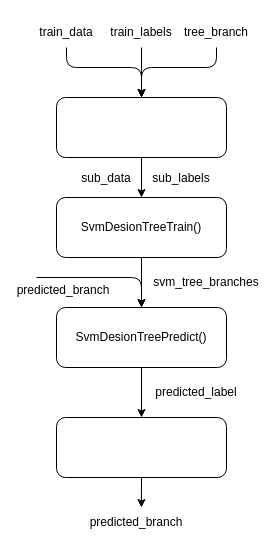
This 276x554 diagram has some shape labels left out. Each missing label, with the centre of its shape:
CombineMultiBranch(): the point at 141,447
RetrieveSubData(): the point at 141,127
